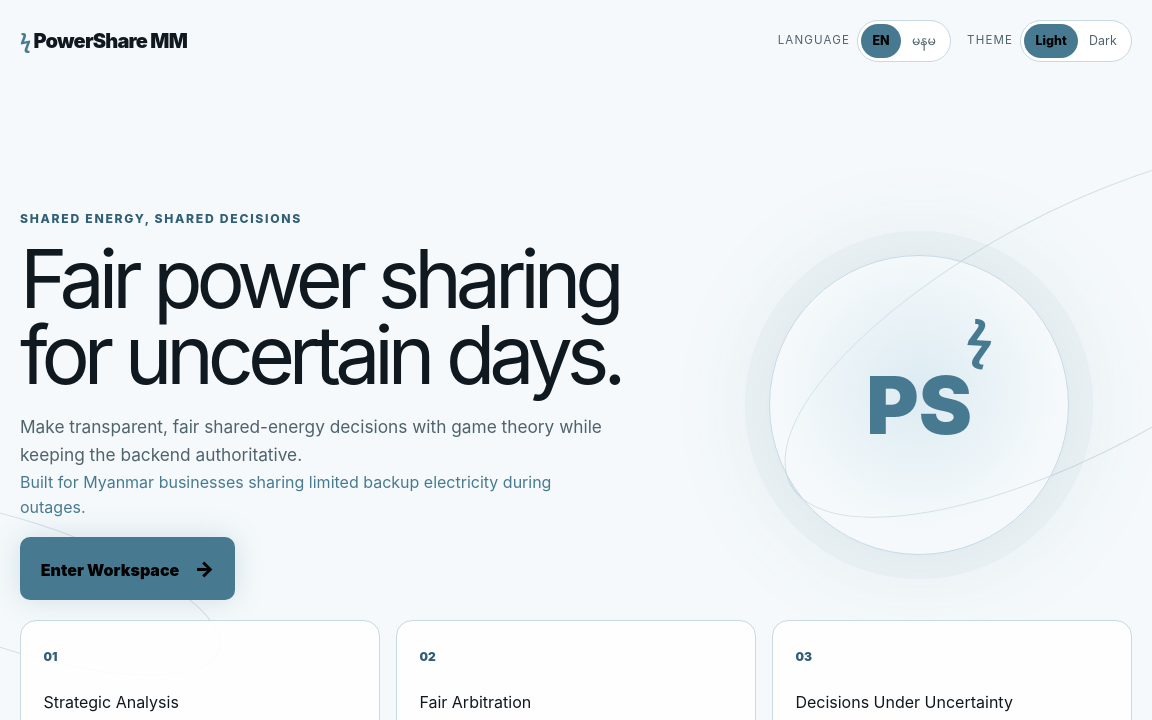
it: ScenarioForm — guided UX › renders the intro, example summary, and how-info-is-used panels
The width and height of the screenshot is (1152, 720).
Click the button "Enter Workspace →" at (128, 568), box [20, 537, 235, 600]
(page scrolled)
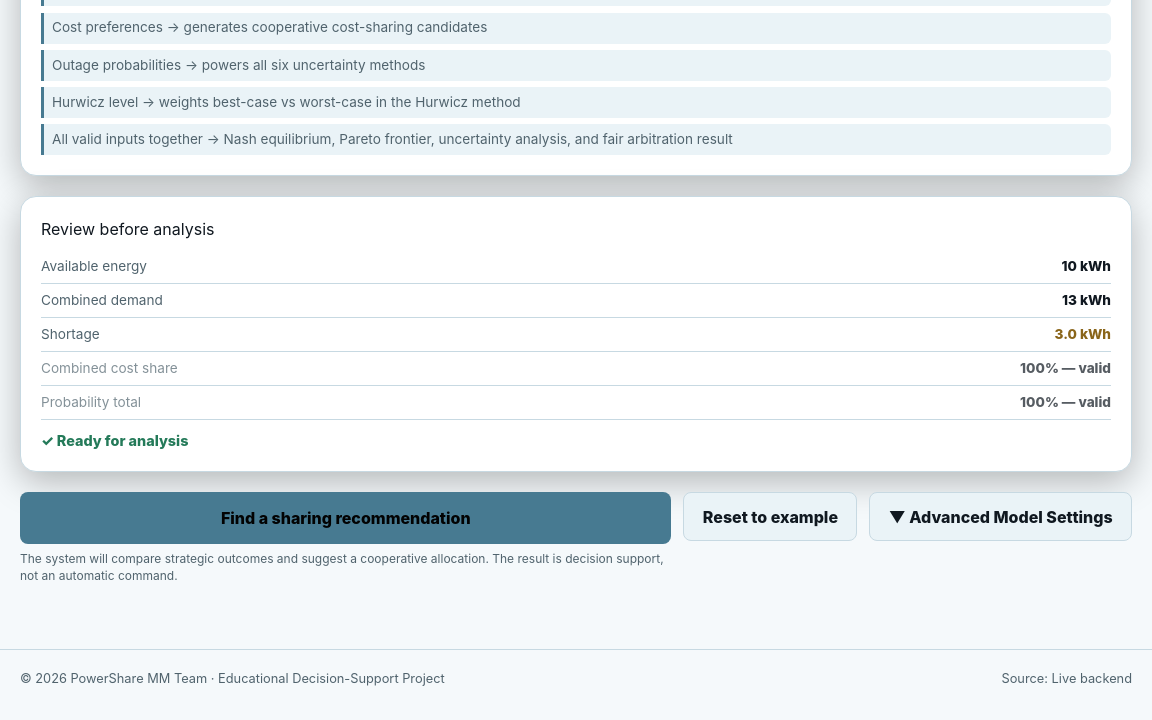
Result: the heading "Review before analysis" is shown at [41, 219, 214, 239]
Result: the text "The system will compare strategic outcomes and suggest a cooperative allocation. The result is decision support, not an " is shown at [20, 551, 664, 583]
